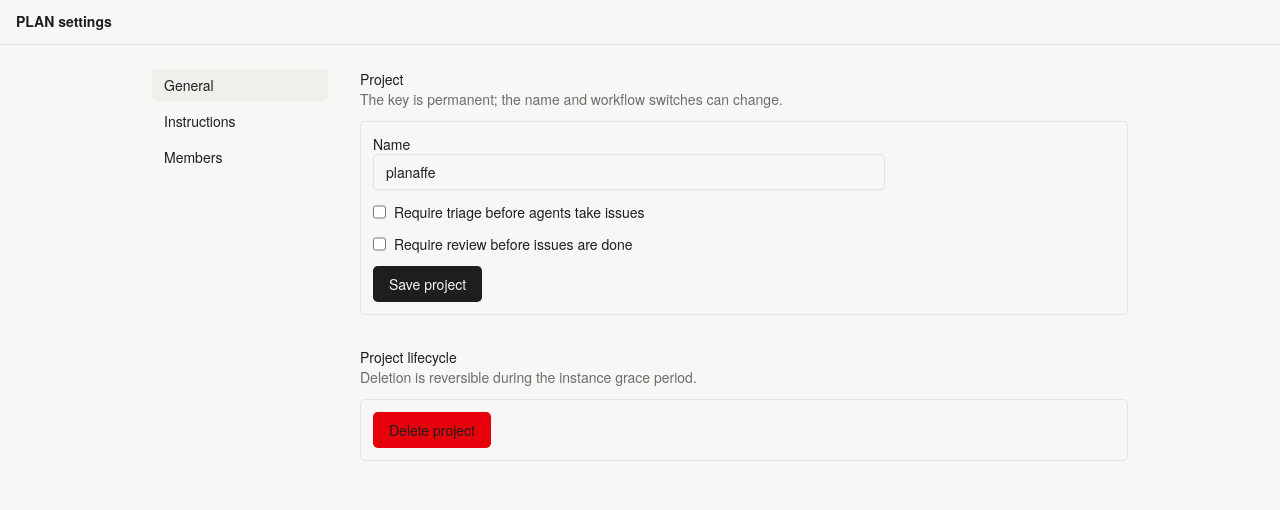
Test: submits the project name and workflow switches
Replace the text in the field labelled "Name" with "Planning" at (629, 172), box x1=373 y1=154 x2=885 y2=190
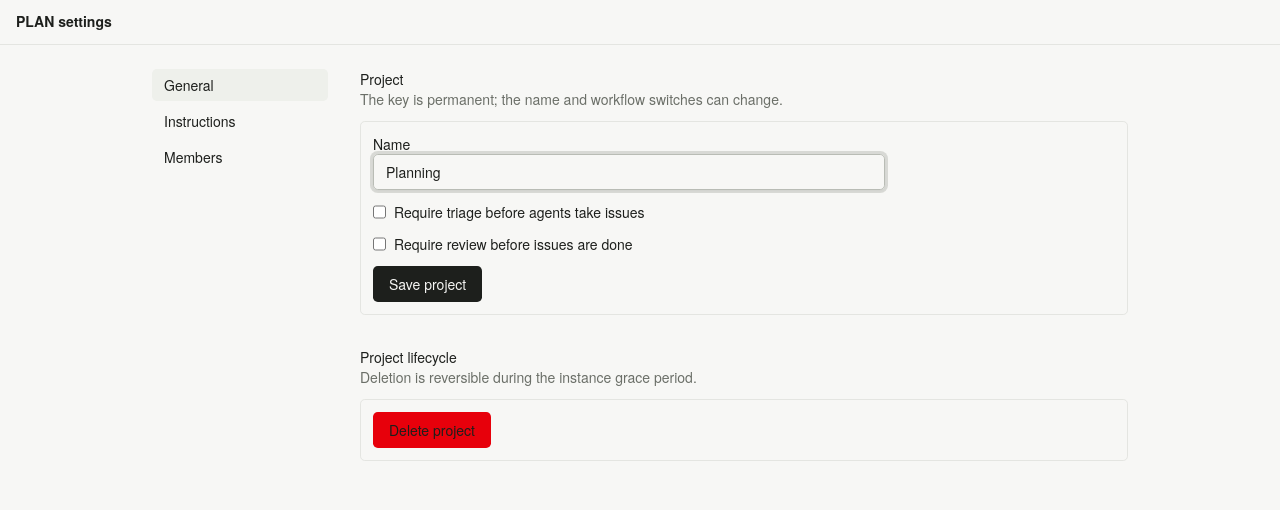
Click the checkbox labelled "Require triage before agents take issues" at (380, 212), box x1=373 y1=202 x2=386 y2=222
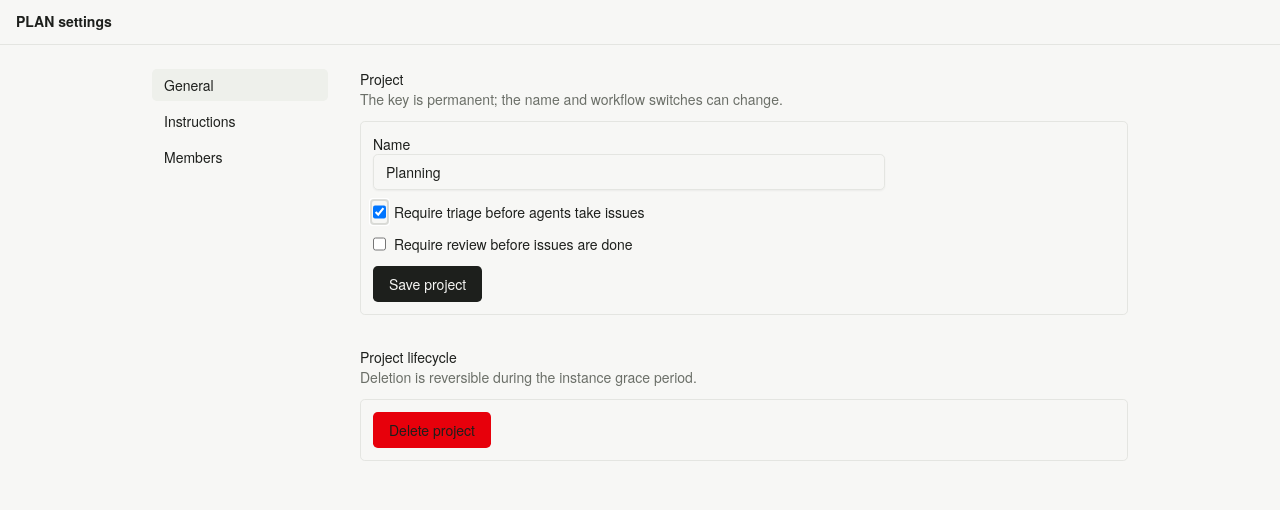
Click the checkbox labelled "Require review before issues are done" at (380, 244), box x1=373 y1=234 x2=386 y2=254
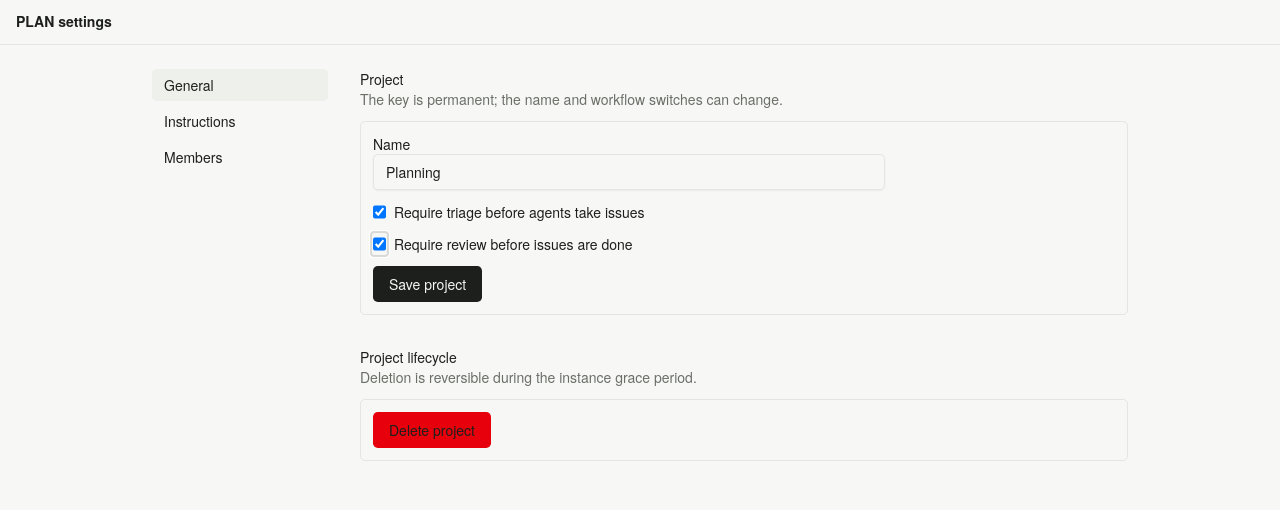
Click the button "Save project" at (428, 284), box x1=373 y1=266 x2=482 y2=302
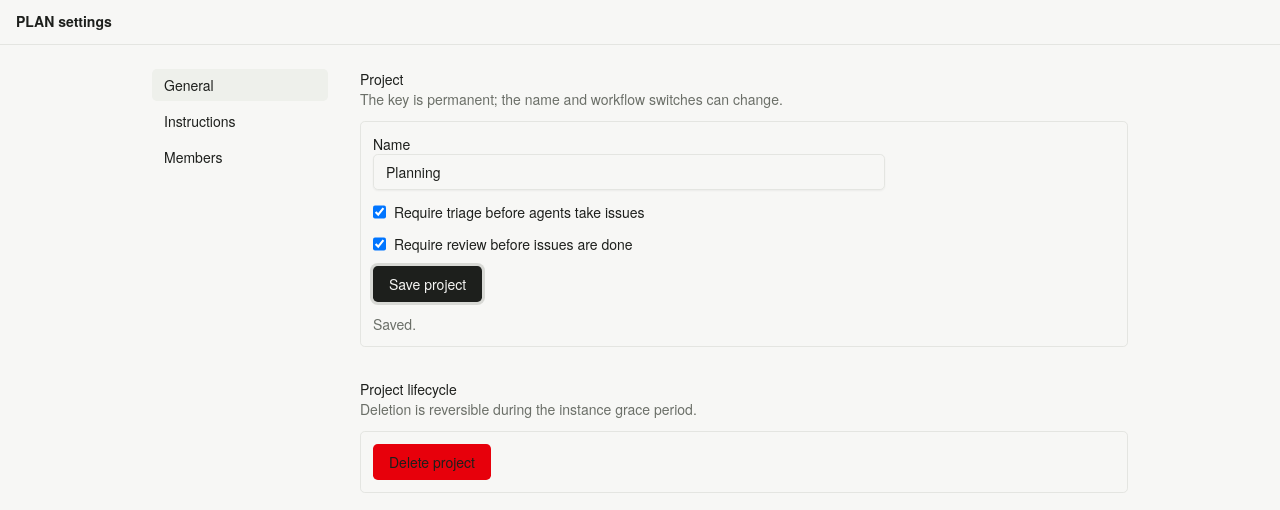
Expected: the message reads "Saved.", x1=373 y1=314 x2=416 y2=334
